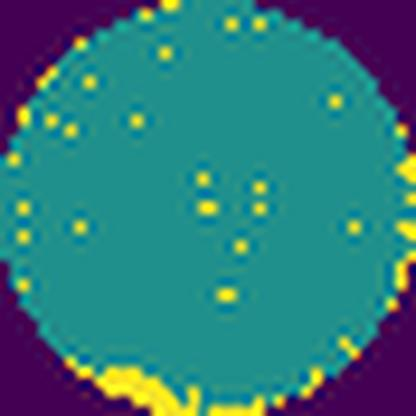Edge-Loc: (63, 351, 202, 416), (206, 392, 266, 416), (397, 153, 416, 176)
